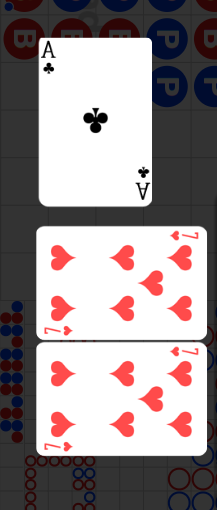7H: (168, 229, 200, 242), (169, 346, 200, 359)
AC: (40, 40, 59, 78)
